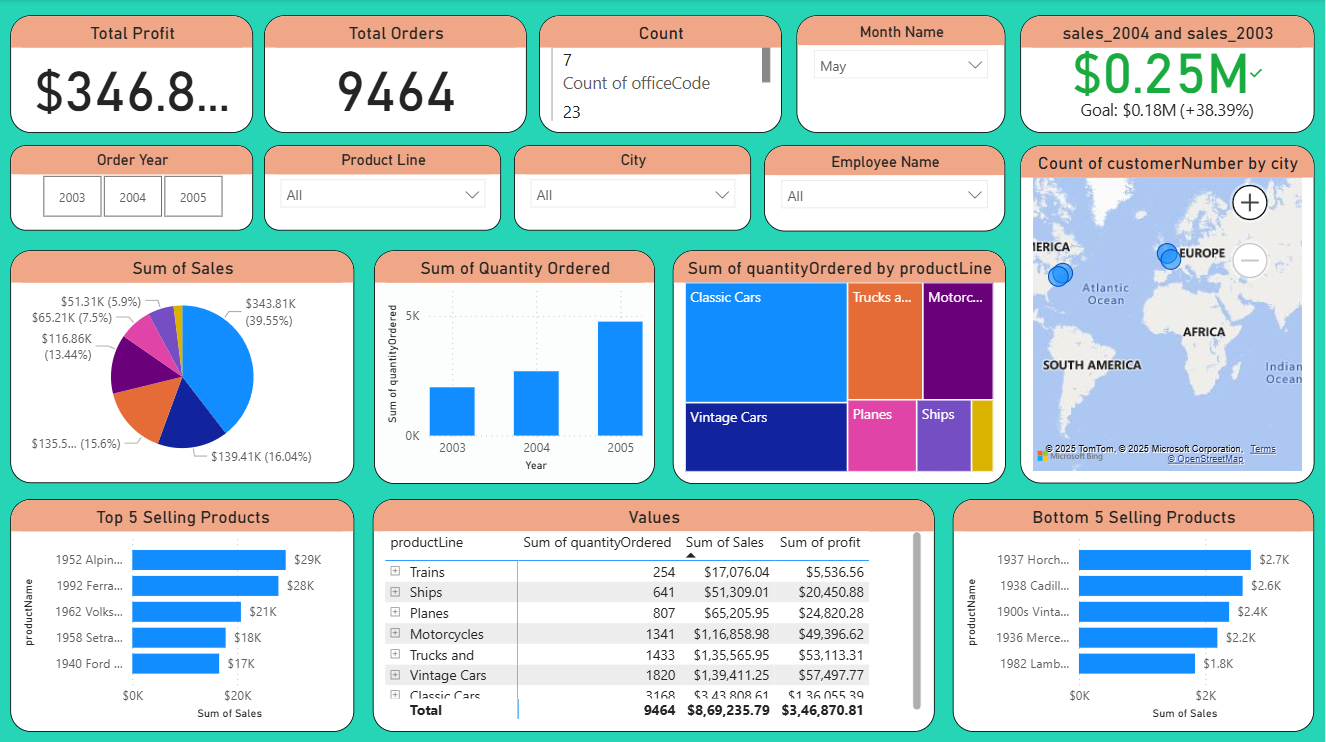

Layout of this report page (visuals, bound fields, positions):
{"tool":"powerbi","page":{"name":"Page 1","canvas":[1280,720],"ordinal":0},"visuals":[{"type":"barChart","title":"Top 5 Selling Products","fields":{"Category":["products.productName"],"Y":["Sum(order_details.Sales)"]},"box":[11,483,332.1,225],"z":0},{"type":"pieChart","title":"Sum of Sales ","fields":{"Y":["Sum(order_details.Sales)"],"Category":["productlines.productLine"]},"box":[11,242.9,332.1,225],"z":1000},{"type":"pivotTable","title":"Values","fields":{"Rows":["productlines.productLine","products.productName"],"Values":["Sum(order_details.quantityOrdered)","Sum(order_details.Sales)","Sum(order_details.profit)"]},"box":[360.9,483,542,225],"z":2000},{"type":"slicer","title":"Order Year","fields":{"Values":["orders.Year"]},"box":[11,141.3,234.6,82.3],"z":3000},{"type":"card","title":"Total Profit","fields":{"Values":["Sum(order_details.total_profitt)"]},"box":[11,15.1,234.6,113.9],"z":4000},{"type":"slicer","title":"Month Name","fields":{"Values":["orders.Month Name"]},"box":[769.8,15.1,201.7,113.9],"z":5000},{"type":"card","title":"Total Orders","fields":{"Values":["Sum(order_details.quantityOrdered)"]},"box":[255.2,15.1,253.9,113.9],"z":6000},{"type":"multiRowCard","title":"Count","fields":{"Values":["offices.officeCode","Count(employee.employeeNumber)","Count(customers.customerNumber)"]},"box":[521.4,15.1,234.6,113.9],"z":7000},{"type":"kpi","title":"sales_2004 and sales_2003 ","fields":{"TrendLine":["orders.Month Name"],"Goal":["orders.sales_2003"],"Indicator":["orders.sales_2004"]},"box":[985.3,15.1,284,113.9],"z":8000},{"type":"map","fields":{"Category":["offices.city"],"Size":["Count(orders.customerNumber)"]},"box":[985.3,141.3,284,326.6],"z":9000},{"type":"treemap","fields":{"Group":["productlines.productLine"],"Values":["Sum(order_details.quantityOrdered)"]},"box":[650,242.9,321.4,225.7],"z":10000},{"type":"columnChart","title":"Sum of Quantity Ordered","fields":{"Category":["orders.Year"],"Y":["Sum(order_details.quantityOrdered)"]},"box":[361.4,242.9,271.4,225.7],"z":11000},{"type":"barChart","title":"Bottom 5 Selling Products","fields":{"Category":["products.productName"],"Y":["Sum(order_details.Sales)"]},"box":[920.8,483,348.5,225],"z":12000},{"type":"slicer","title":"Product Line","fields":{"Values":["products.productLine"]},"box":[255.2,141.3,229.2,82.3],"z":13000},{"type":"slicer","title":"City","fields":{"Values":["employee.city"]},"box":[496.7,141.3,229.2,82.3],"z":14000},{"type":"slicer","title":"Employee Name","fields":{"Values":["employee.FullName"]},"box":[738.6,141.4,232.9,82.9],"z":15000}]}

Visuals, with their boxes in screenshot pixels (x1, y1, x2, y2), scaled from the page's 1280x720 canvas onto the 1326x742 screenshot:
"Top 5 Selling Products" barChart: locate(11, 498, 355, 730)
"Sum of Sales " pieChart: locate(11, 250, 355, 482)
"Values" pivotTable: locate(374, 498, 935, 730)
"Order Year" slicer: locate(11, 146, 254, 230)
"Total Profit" card: locate(11, 16, 254, 133)
"Month Name" slicer: locate(797, 16, 1006, 133)
"Total Orders" card: locate(264, 16, 527, 133)
"Count" multiRowCard: locate(540, 16, 783, 133)
"sales_2004 and sales_2003 " kpi: locate(1021, 16, 1315, 133)
map - offices.city x Count(orders.customerNumber): locate(1021, 146, 1315, 482)
treemap - productlines.productLine x Sum(order_details.quantityOrdered): locate(673, 250, 1006, 483)
"Sum of Quantity Ordered" columnChart: locate(374, 250, 656, 483)
"Bottom 5 Selling Products" barChart: locate(954, 498, 1315, 730)
"Product Line" slicer: locate(264, 146, 502, 230)
"City" slicer: locate(515, 146, 752, 230)
"Employee Name" slicer: locate(765, 146, 1006, 231)
